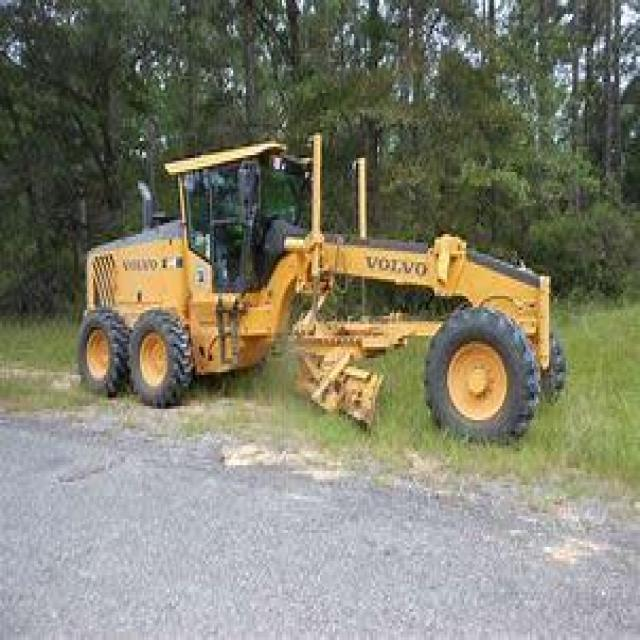Grader: (68, 127, 574, 459)
